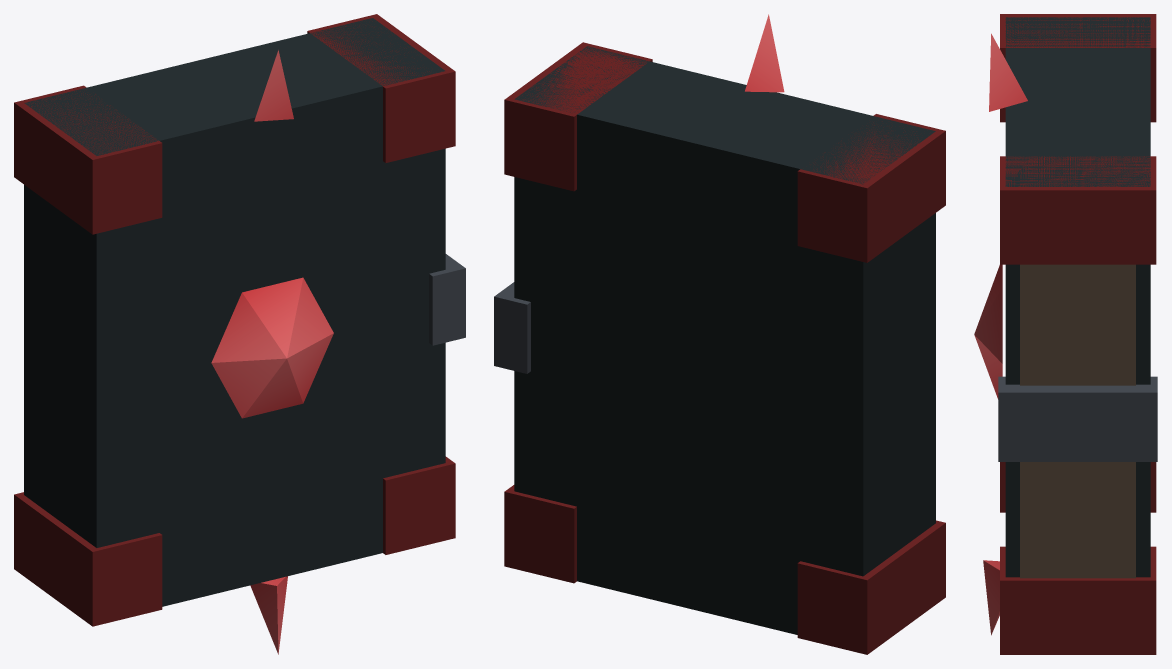
File: mage_tome_3.gltf
The picture shows the model from 3 angles, left to right: view 1: azimuth 30°, elevation 25°; view 2: azimuth 150°, elevation 25°; view 3: azimuth 270°, elevation 25°; orthographic projection.
Visible parts, largest first — view 1: mage_tome_3; view 2: mage_tome_3; view 3: mage_tome_3.
Part boxes in pixels (x1,y1,x2,y2): mage_tome_3: [14, 14, 465, 654]; mage_tome_3: [494, 14, 945, 654]; mage_tome_3: [974, 14, 1157, 654].
Size of the model in its own units: 0.4496 by 0.6982 by 0.1927.
Materials: 1 (1 with a texture image).
